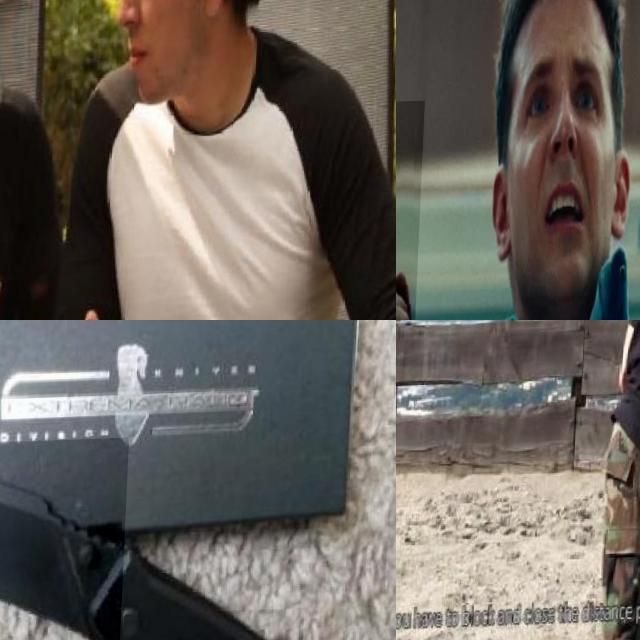-: (0, 440, 165, 640), (0, 169, 37, 309)
gun-knife-thesis - v11 Yolov5 augmented: (396, 102, 448, 320)
